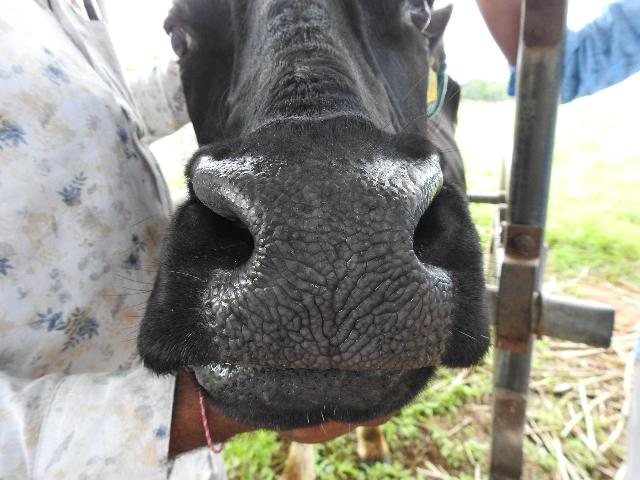Muzzle: (243, 174, 409, 372)
